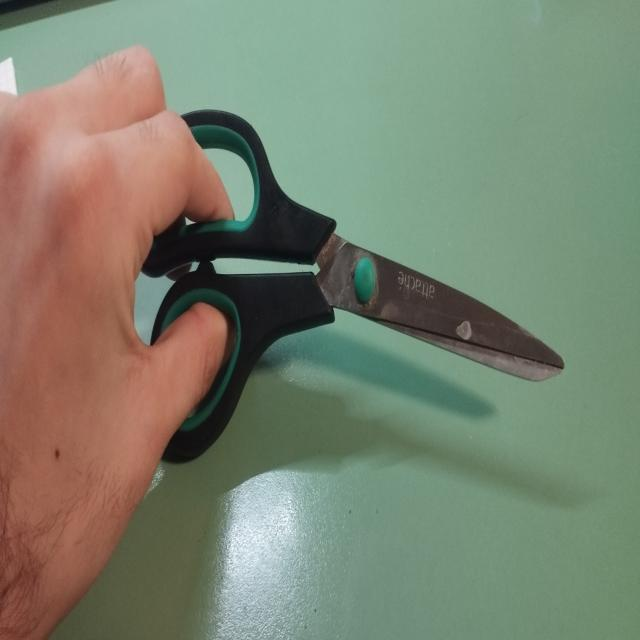tesoura: (138, 92, 568, 474)
